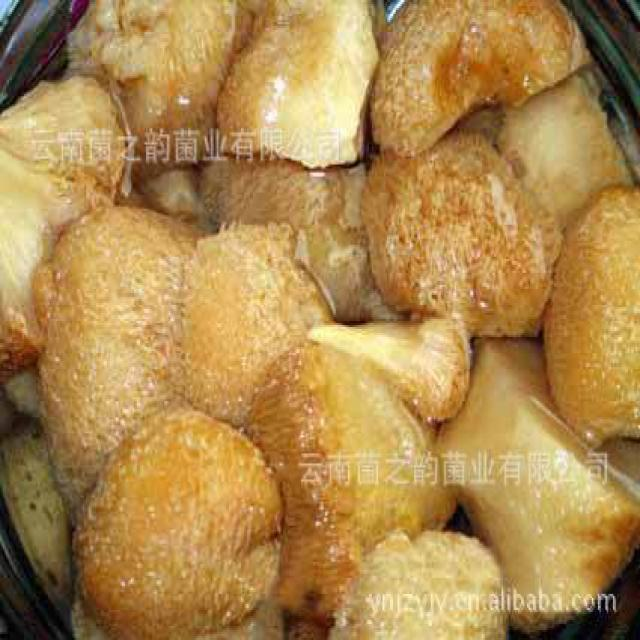Hericium erinaceus: (244, 350, 449, 613), (69, 397, 283, 635), (29, 204, 198, 477), (366, 135, 559, 343), (0, 80, 130, 369), (371, 0, 595, 152), (67, 0, 234, 165), (180, 224, 324, 409), (225, 0, 375, 165), (550, 190, 640, 450), (328, 527, 504, 640)
